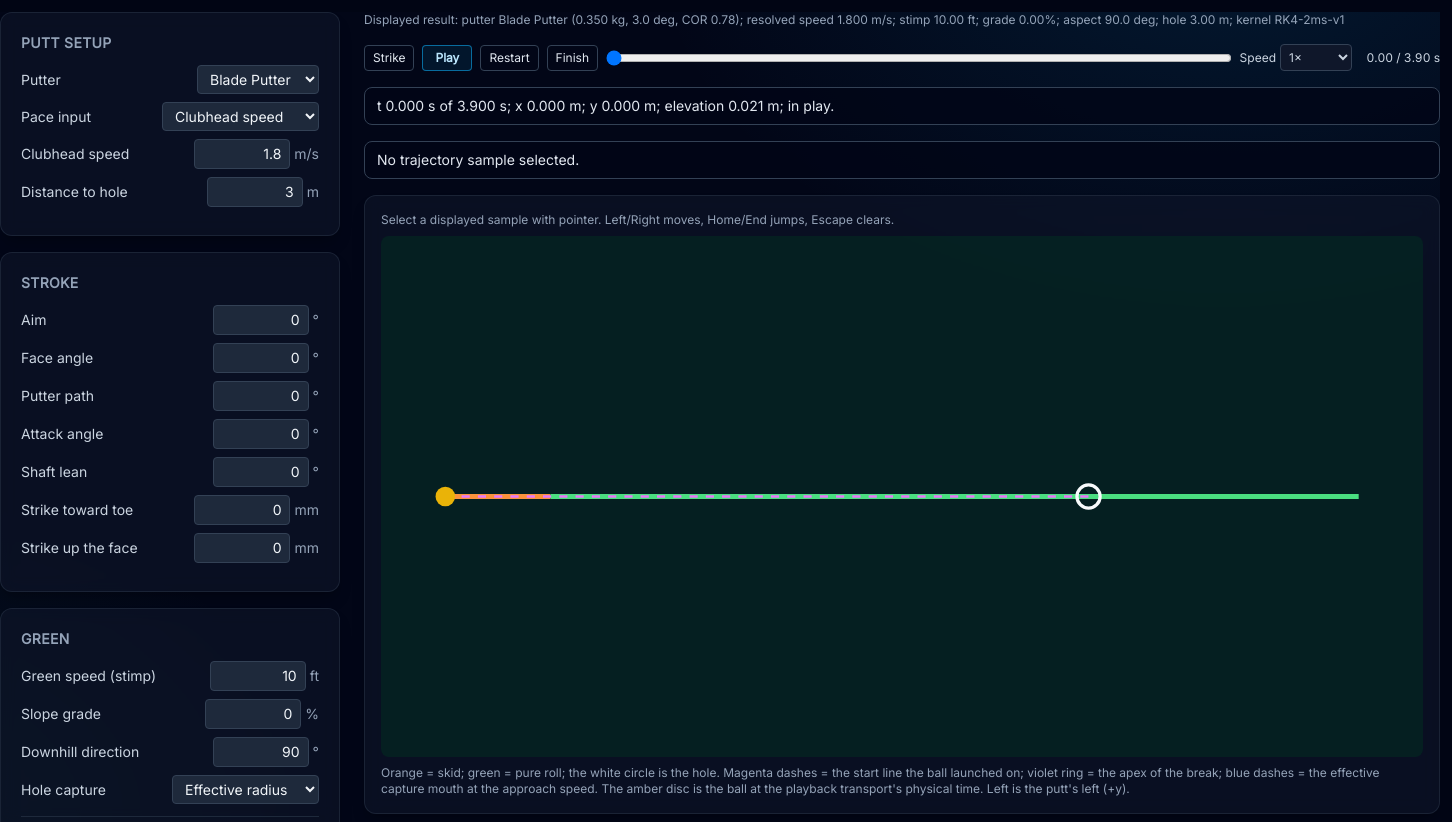
Test case: PuttingPanel playback on the shared transport (#4800 P8) › returns to the strike when a new putt is accepted
Click the button with aria-label "Jump to Finish": (572,58) [547,44,598,70]
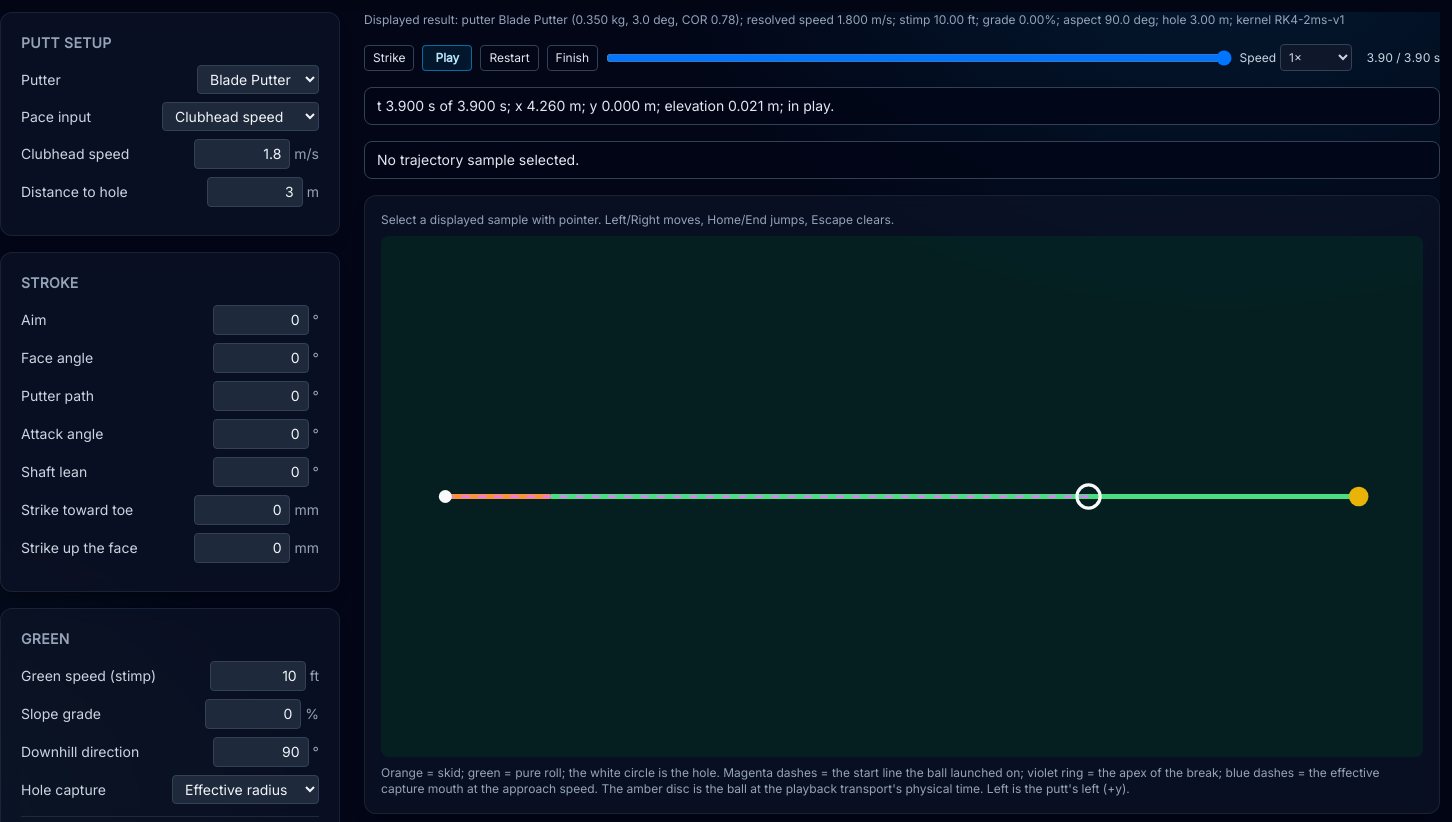
Result: the text named "Putt playback position" no longer shows "0.00 /" at [1360,50,1440,66]
Replace the text in the field labelled "Slope grade %" with "2": (253,714) [205,699,301,729]
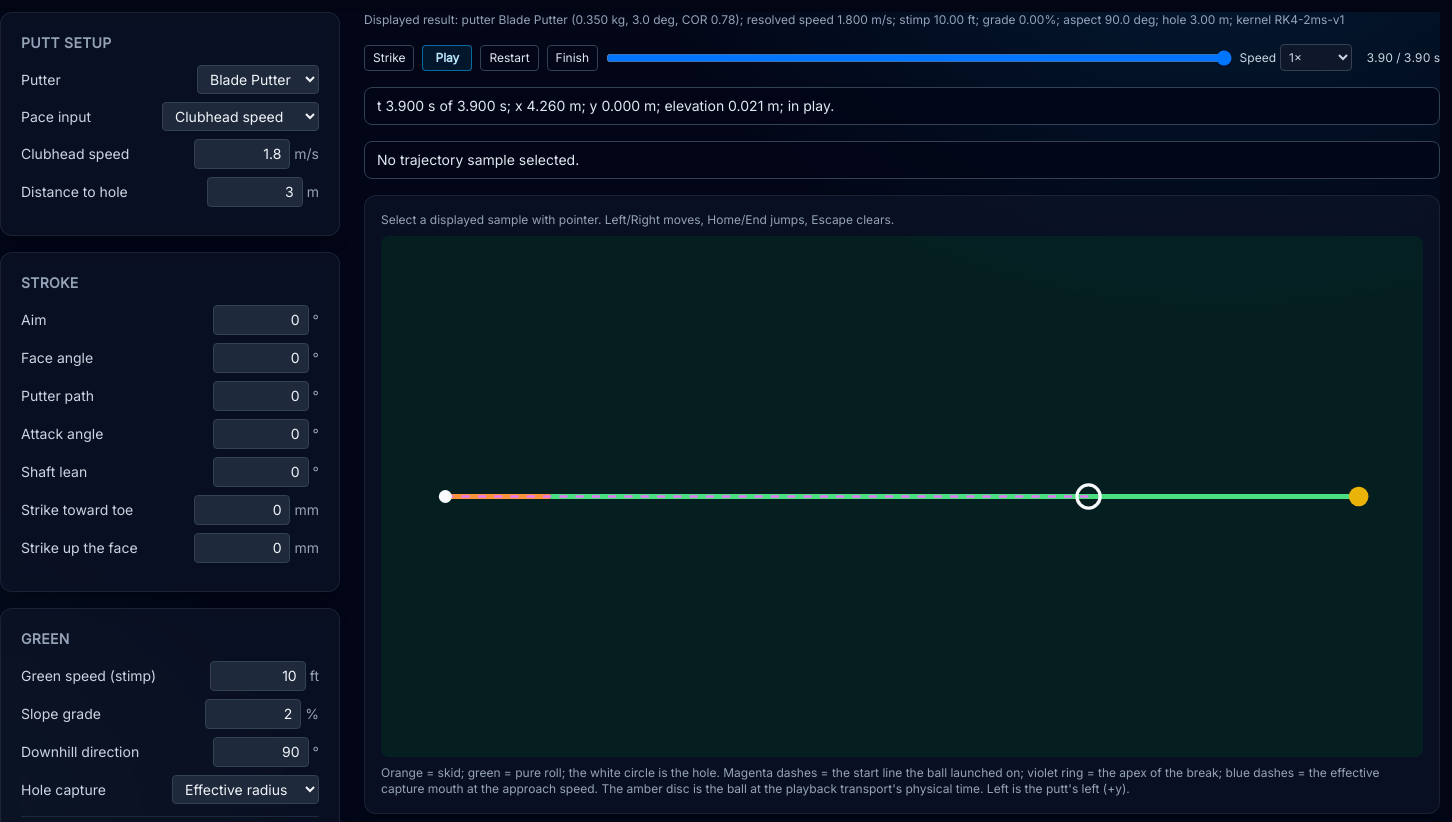
Leave the field labelled "Slope grade %", box [205,699,301,729]
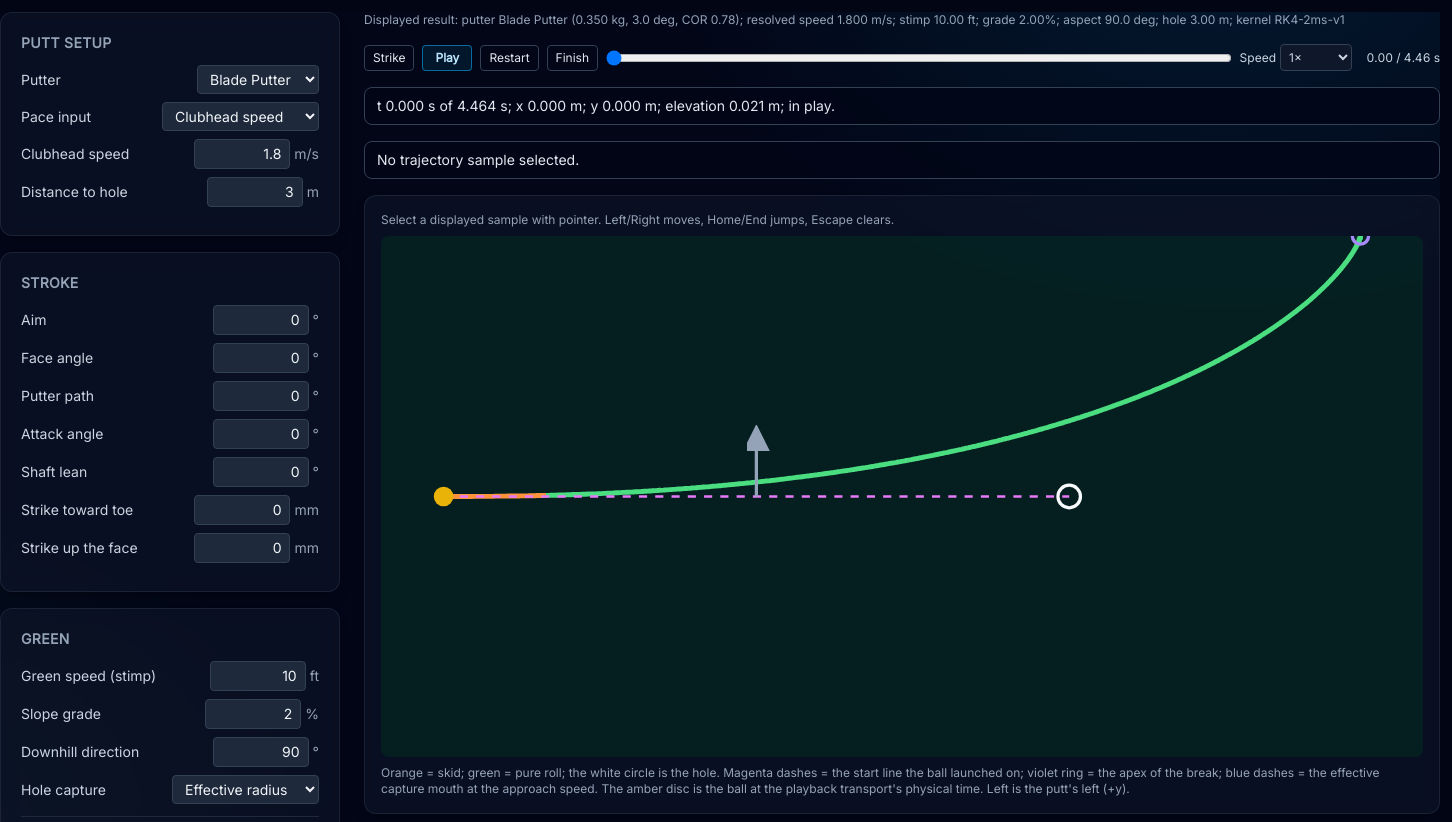
Result: the text named "Putt playback position" shows "0.00 /" at [1360,50,1440,66]
